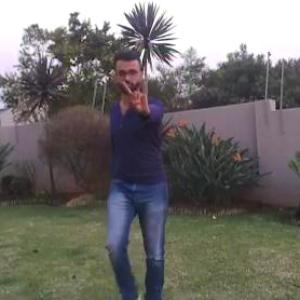takeoff-hand: (118, 69, 156, 119)
